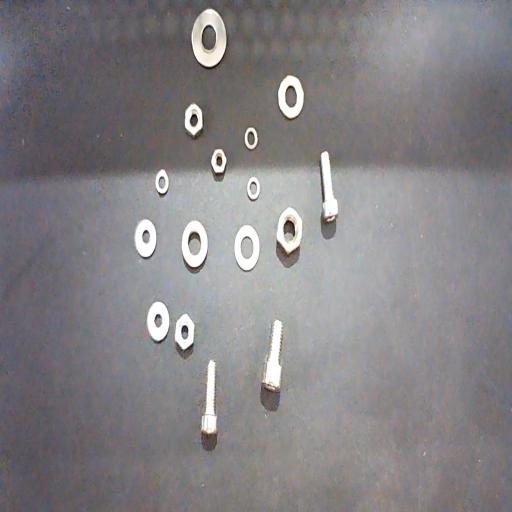nut: (276, 207, 302, 256), (175, 313, 195, 351), (184, 104, 203, 138), (211, 148, 227, 174)
screw: (262, 320, 284, 392), (319, 151, 338, 222), (201, 360, 218, 436)
washer: (192, 8, 226, 68), (182, 220, 207, 268), (234, 225, 260, 271), (278, 75, 304, 119), (146, 301, 170, 342), (134, 219, 156, 258), (155, 170, 169, 194), (245, 127, 258, 150), (247, 177, 260, 200)
